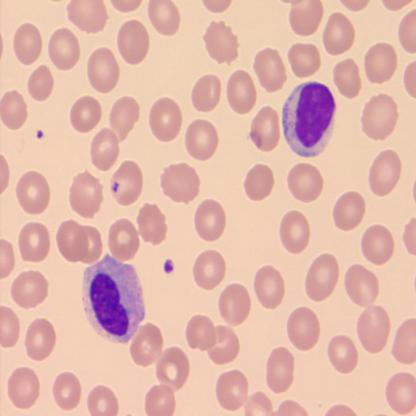Metamyelocyte: (80, 250, 147, 346)
